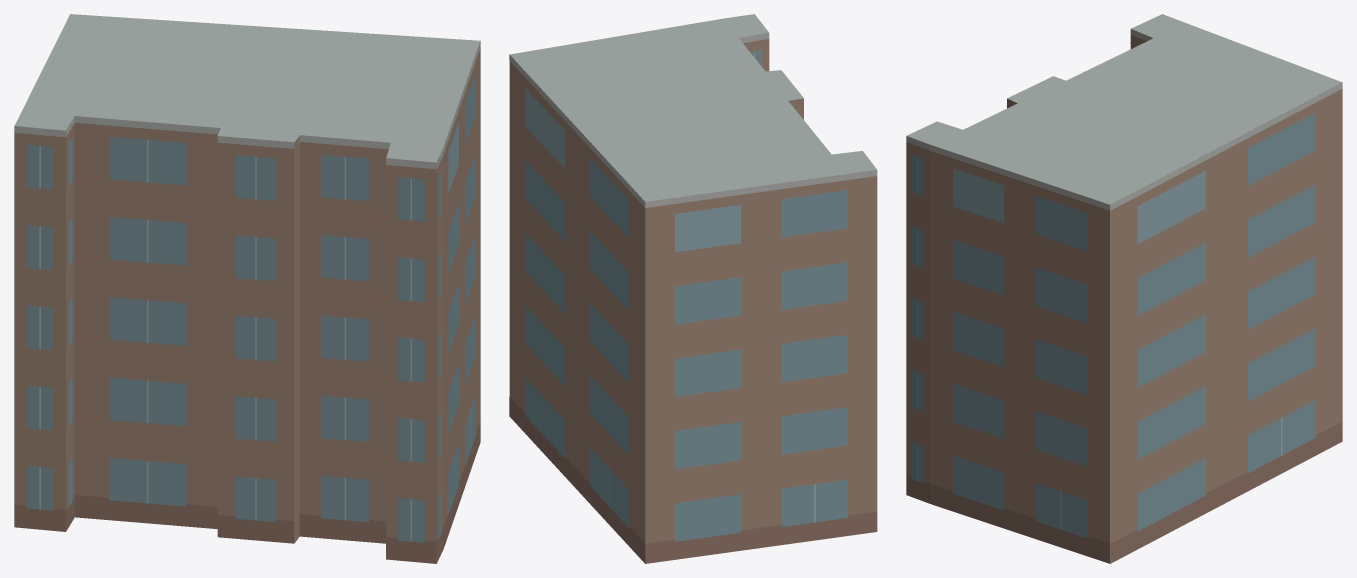
Rendered from survey-upis-32750080.glb.
3 renders of one model, left to right at view 1: azimuth 30°, elevation 25°; view 2: azimuth 150°, elevation 25°; view 3: azimuth 270°, elevation 25°, orthographic. The views are drawn at different scales.
Visible parts, largest first — view 1: survey-upis-32750080.tmp; view 2: survey-upis-32750080.tmp; view 3: survey-upis-32750080.tmp.
Boxes of the visible parts, x1=… form: survey-upis-32750080.tmp: x1=14, y1=14, x2=480, y2=563; survey-upis-32750080.tmp: x1=509, y1=14, x2=877, y2=563; survey-upis-32750080.tmp: x1=906, y1=14, x2=1342, y2=563.
Bounding box in the file's own units: 16.59 × 14.55 × 16.03.
